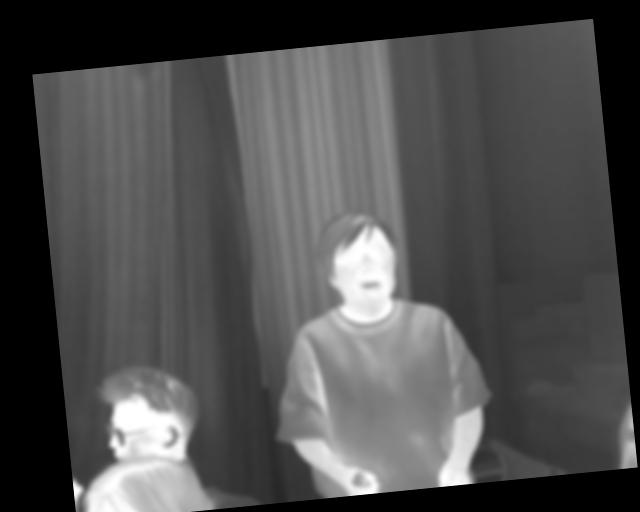face: (272, 156, 354, 258), (368, 137, 440, 224)
